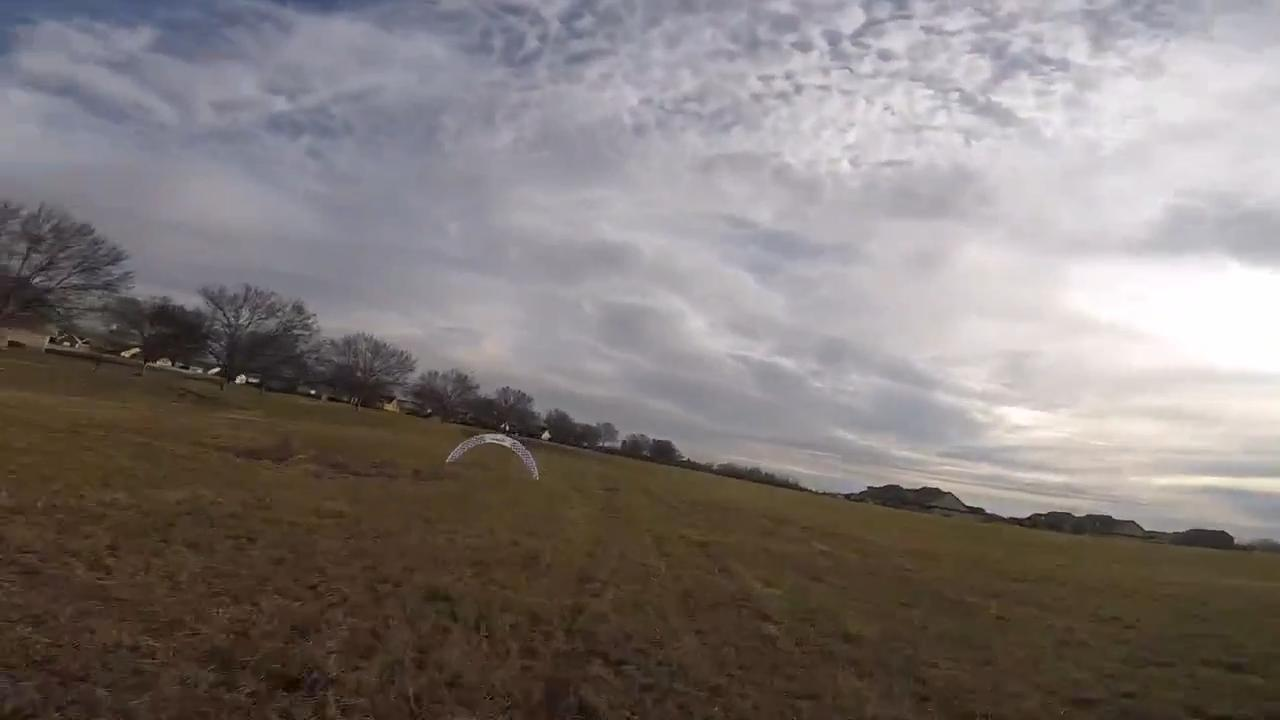gate: (441, 429, 540, 485)
